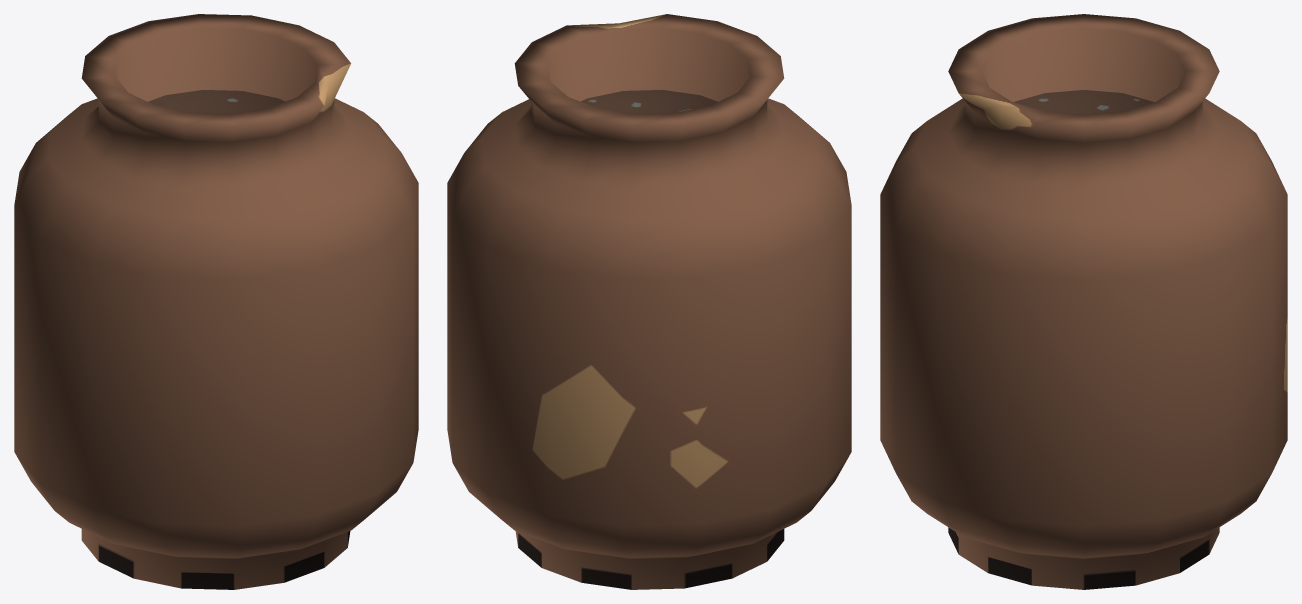
Rendered from PotOne.fbx.
3 views of the same model, side by side, from view 1: azimuth 30°, elevation 25°; view 2: azimuth 150°, elevation 25°; view 3: azimuth 270°, elevation 25° (orthographic).
Parts seen in each view (by area): view 1: PotOne; view 2: PotOne; view 3: PotOne.
Part boxes in pixels (bbox=[...]): PotOne: bbox=[14, 14, 418, 589]; PotOne: bbox=[447, 14, 851, 589]; PotOne: bbox=[880, 14, 1287, 589].
Bounding box in the file's own units: 1.2 × 1.5 × 1.2.
